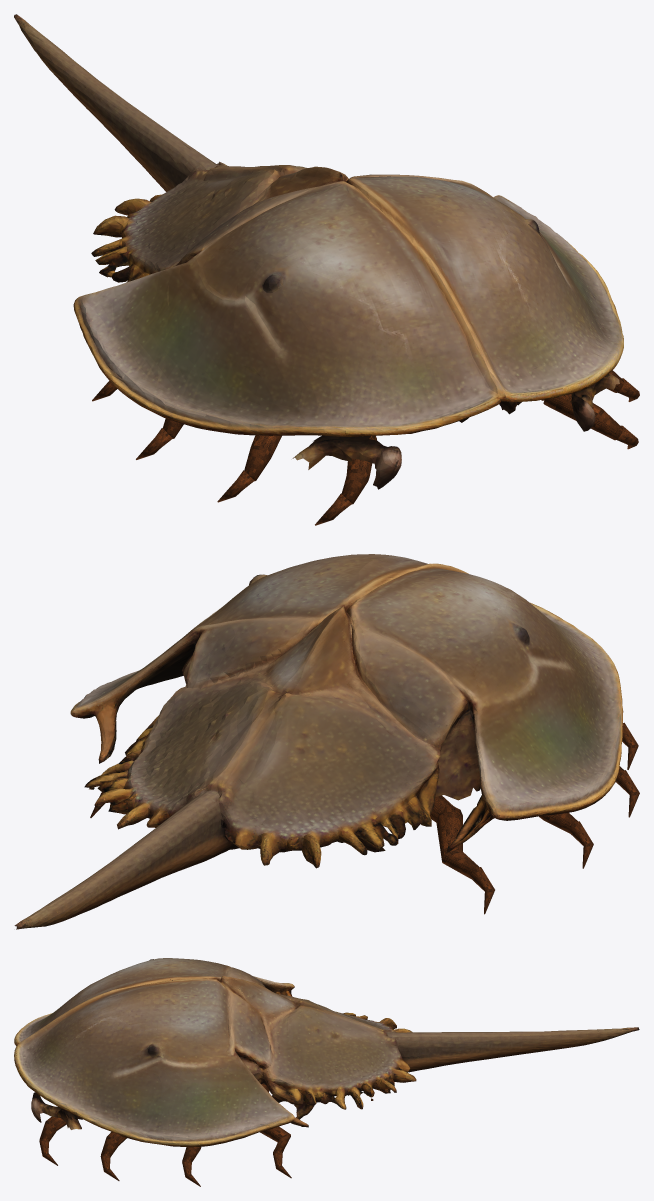
3 renders of one model, top to bottom at view 1: azimuth 30°, elevation 25°; view 2: azimuth 150°, elevation 25°; view 3: azimuth 270°, elevation 25°, orthographic. The views are drawn at different scales.
Visible parts, largest first — view 1: world, Leg_R_1_shank, Leg_L_2_shank, Leg_L_1_shank; view 2: world, Leg_L_4_shank; view 3: world, Leg_R_4_shank, Leg_R_1_shank, Leg_R_2_shank.
Boxes of the visible parts, x1,y1,x2,y2 form: world: [14, 14, 623, 489]; Leg_R_1_shank: [543, 394, 623, 440]; Leg_L_2_shank: [244, 435, 281, 481]; Leg_L_1_shank: [341, 435, 376, 504]; world: [14, 554, 623, 929]; Leg_L_4_shank: [436, 806, 479, 878]; world: [14, 958, 639, 1147]; Leg_R_4_shank: [260, 1126, 290, 1152]; Leg_R_1_shank: [39, 1116, 66, 1141]; Leg_R_2_shank: [101, 1131, 126, 1156].
Bounding box in the file's own units: 0.0846 × 0.0372 × 0.15.
Materials: 2 (2 with a texture image).
